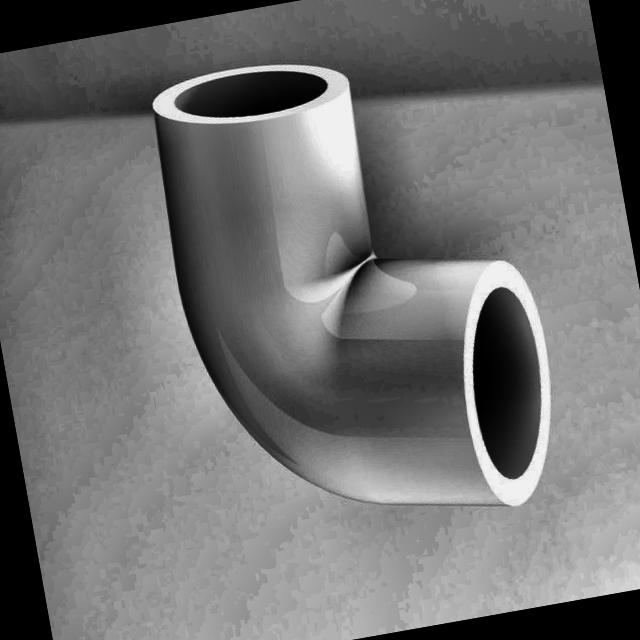ELBOW90: (149, 63, 553, 509)
